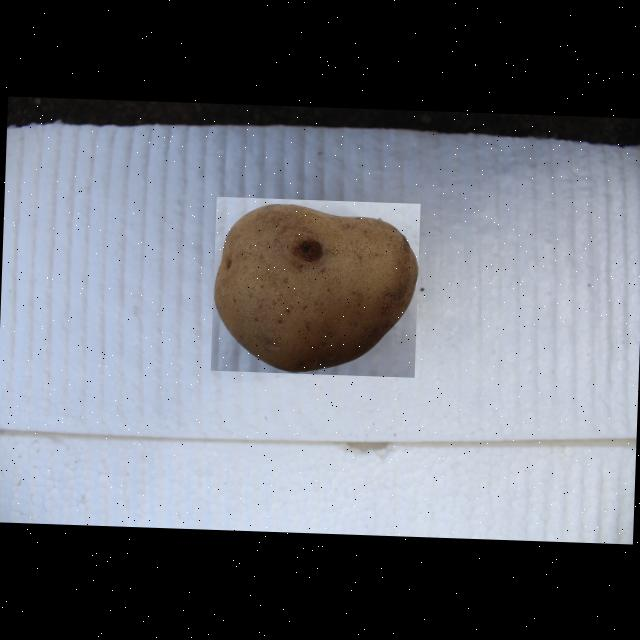Damaged potato: (210, 196, 420, 378)
